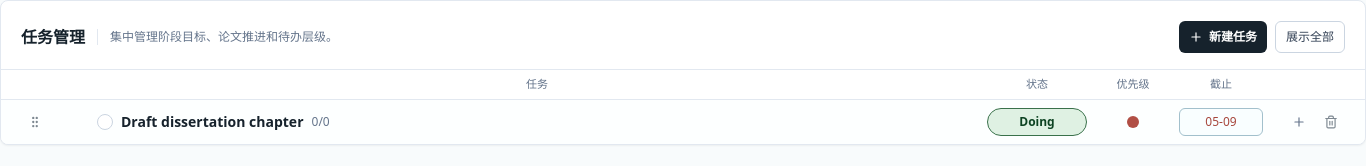
Test: TaskManager › selects a task row on first click, then edits title on second click
Click the button "Draft dissertation chapter" at (212, 122), box [121,112,304,132]
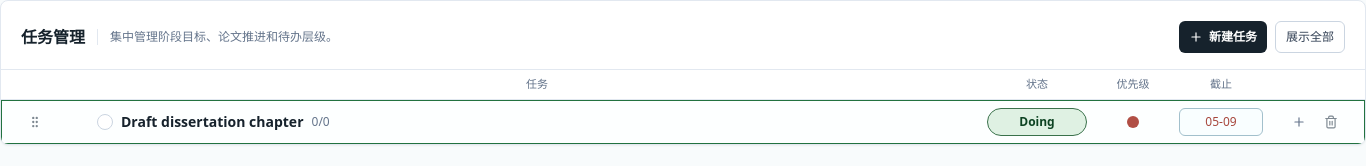
Click the button "Draft dissertation chapter" at (212, 122), box [121,112,304,132]
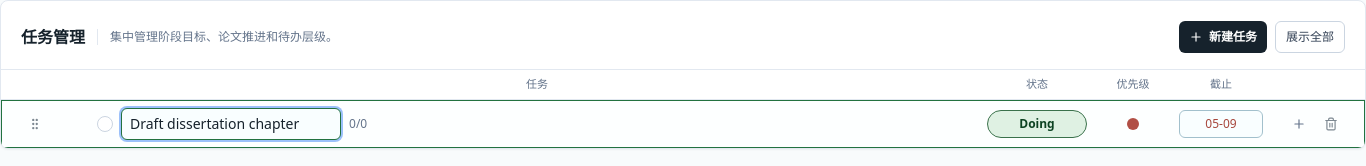
Replace the text in the field named "Edit title for Draft dissertation chapter" with "Draft final chapter" at (231, 124), box [121,108,341,140]
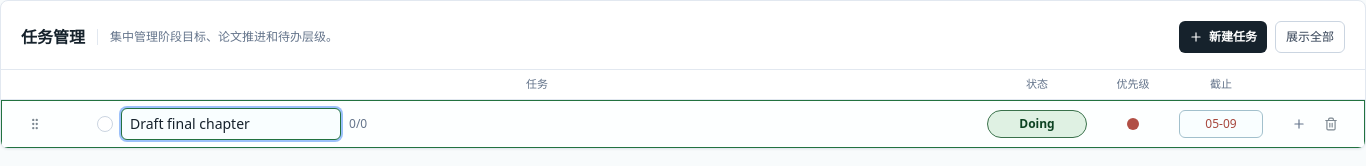
Press Enter in the field named "Edit title for Draft dissertation chapter", box [121,108,341,140]
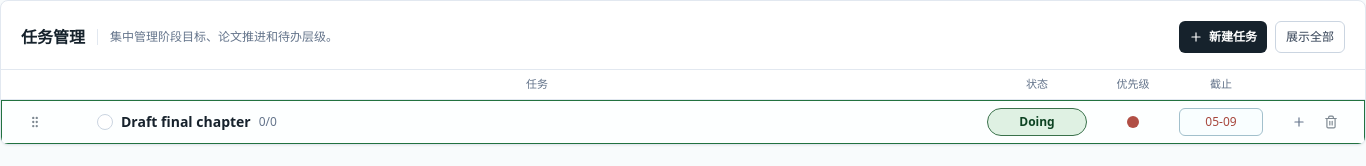
expect the button "Draft final chapter" is shown: met, box [121,112,251,132]
